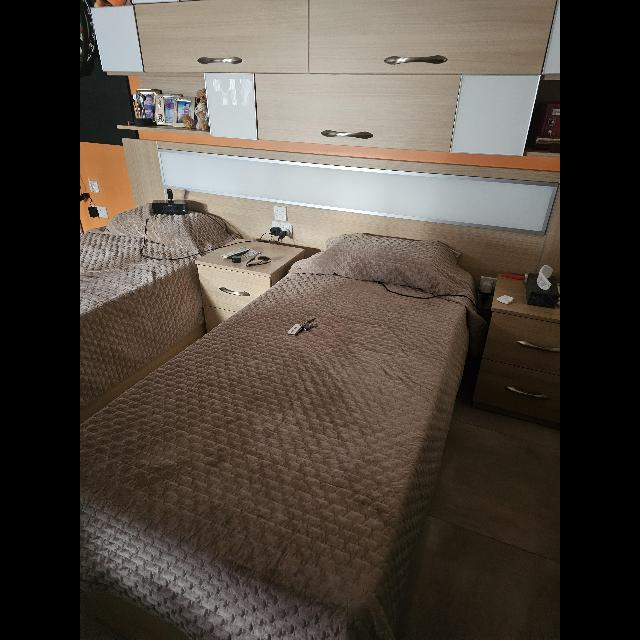Keys: (287, 318, 317, 337)
Sunglasses: (246, 255, 270, 267)
